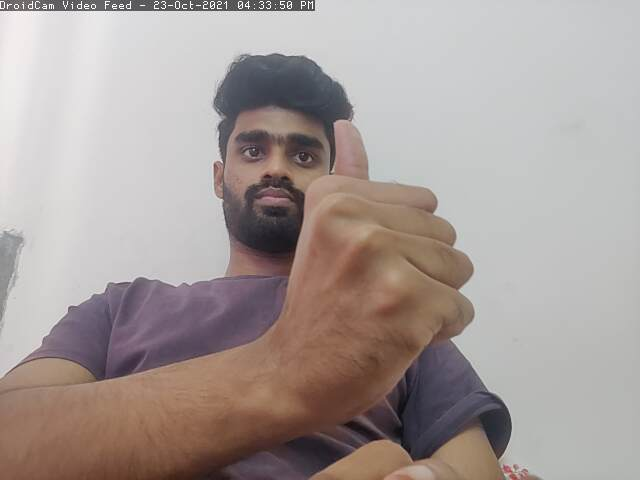ThumbsUp: (294, 120, 479, 422)
